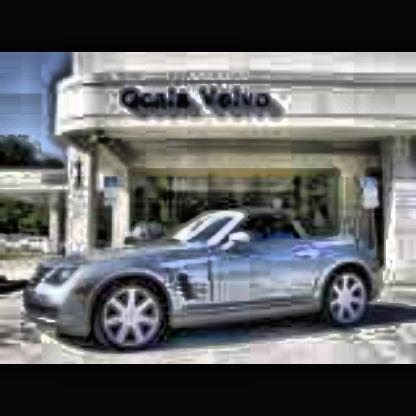Chrysler Crossfire Convertible 2008: (27, 214, 396, 357)
